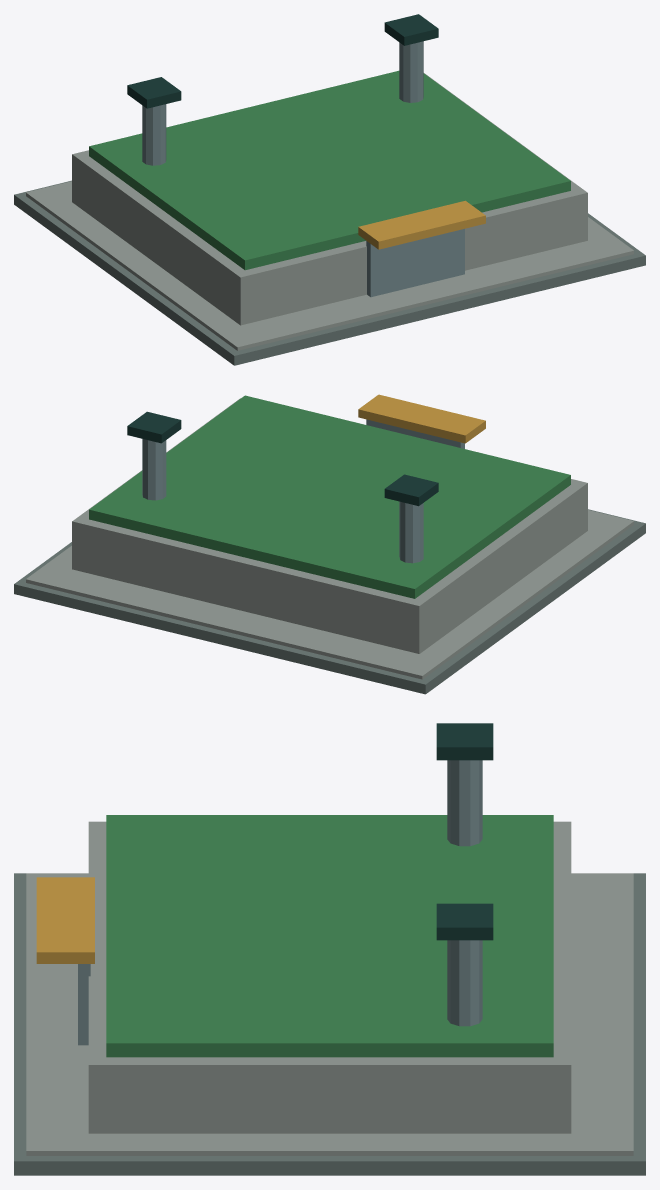
File: shelter_lv1.glb
3 renders of one model, top to bottom at view 1: azimuth 30°, elevation 25°; view 2: azimuth 150°, elevation 25°; view 3: azimuth 270°, elevation 25°, orthographic. The views are drawn at different scales.
Parts seen in each view (by area): view 1: rough, metallic; view 2: rough, metallic; view 3: rough, metallic.
Boxes of the visible parts, x1,y1,x2,y2 form: rough: [14, 14, 645, 365]; metallic: [142, 41, 464, 297]; rough: [14, 394, 645, 694]; metallic: [142, 419, 464, 563]; rough: [14, 723, 645, 1175]; metallic: [78, 760, 482, 1045].
Bounding box in the file's own units: 9.6 × 3.2 × 8.9.
